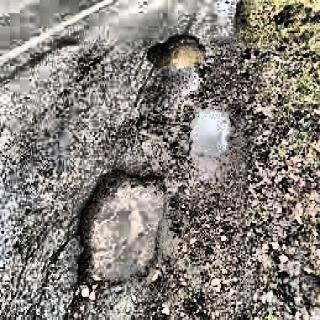pothole: (76, 162, 174, 292), (140, 28, 209, 76), (186, 100, 238, 160)
